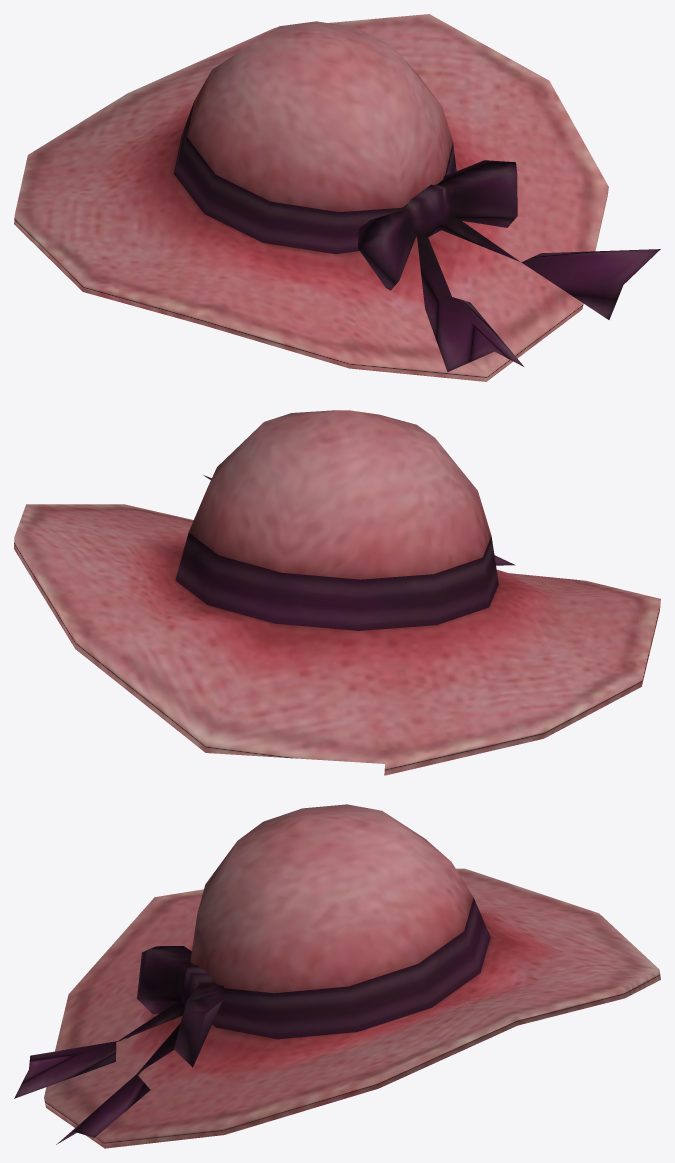
Rendered from summerHat.glb.
3 views of the same model, one above another, from view 1: azimuth 30°, elevation 25°; view 2: azimuth 150°, elevation 25°; view 3: azimuth 270°, elevation 25° (orthographic). The views are drawn at different scales.
Parts seen in each view (by area): view 1: summerHat; view 2: summerHat; view 3: summerHat.
Part boxes in pixels (<box>): summerHat: <box>14,14,660,381</box>; summerHat: <box>14,410,660,775</box>; summerHat: <box>14,804,660,1148</box>.
Size of the model in its own units: 0.6354 by 0.3073 by 0.6655.
1 material, 1 textured.
